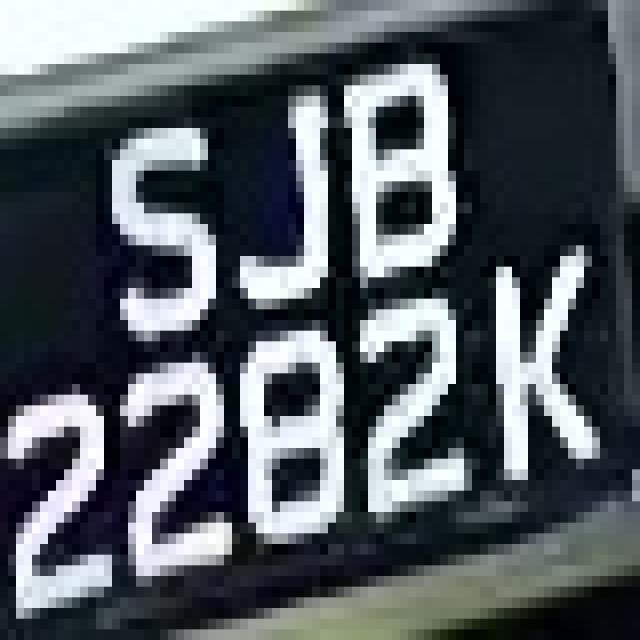2: (96, 330, 248, 586), (344, 277, 464, 544), (16, 363, 120, 608)
8: (240, 309, 376, 576)
B: (304, 43, 488, 288)
J: (208, 64, 344, 320)
K: (464, 235, 608, 512)
S: (72, 64, 232, 373)
